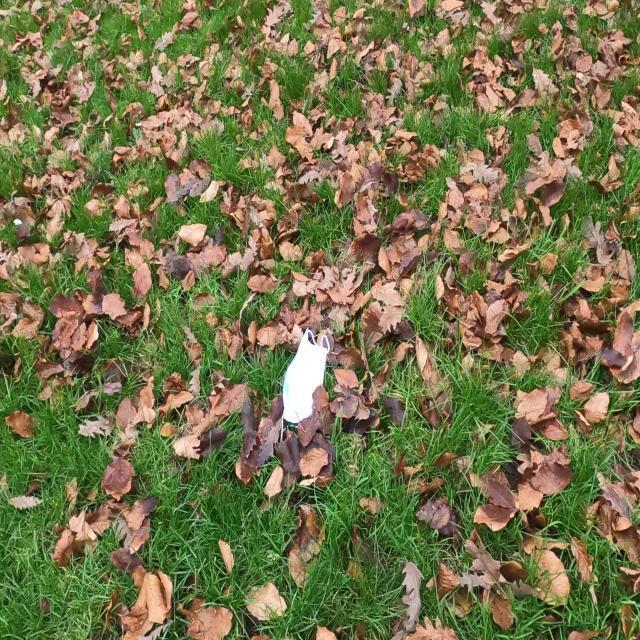Mask: (308, 196, 361, 314)
